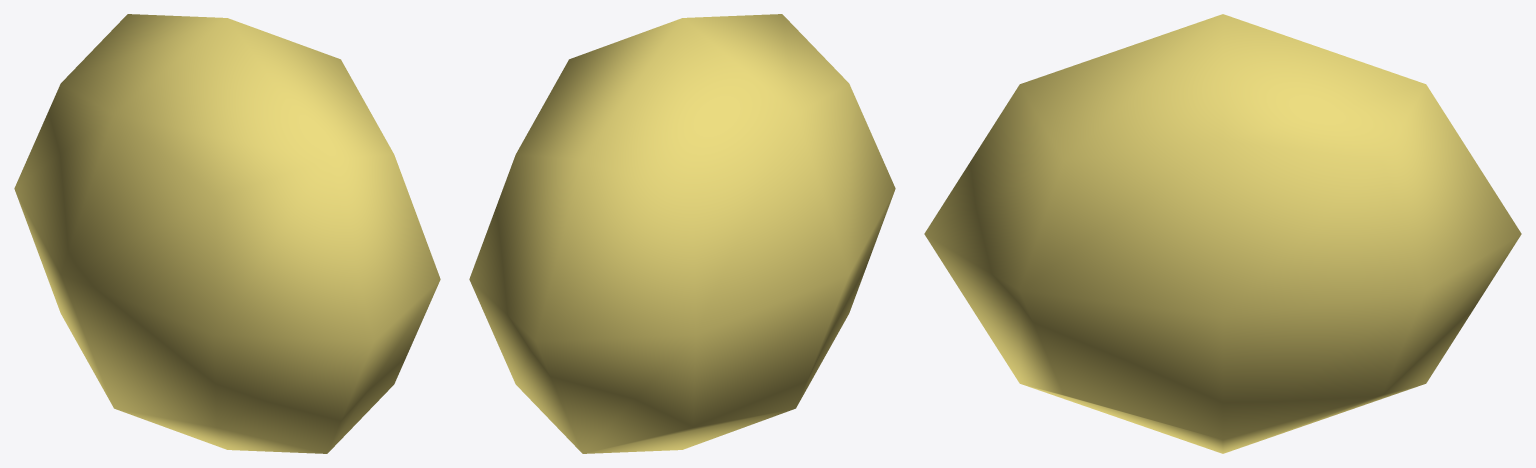
Rendered from anterior-cochlear-nucleus-r.glb.
3 renders of one model, left to right at view 1: azimuth 30°, elevation 25°; view 2: azimuth 150°, elevation 25°; view 3: azimuth 270°, elevation 25°, orthographic.
Parts seen in each view (by area): view 1: Anterior cochlear nucleus.r; view 2: Anterior cochlear nucleus.r; view 3: Anterior cochlear nucleus.r.
Boxes of the visible parts, x1,y1,x2,y2 form: Anterior cochlear nucleus.r: (14,14,440,453); Anterior cochlear nucleus.r: (469,14,895,453); Anterior cochlear nucleus.r: (924,14,1521,453).
Size of the model in its own units: 0.00199 by 0.00247 by 0.00304.
